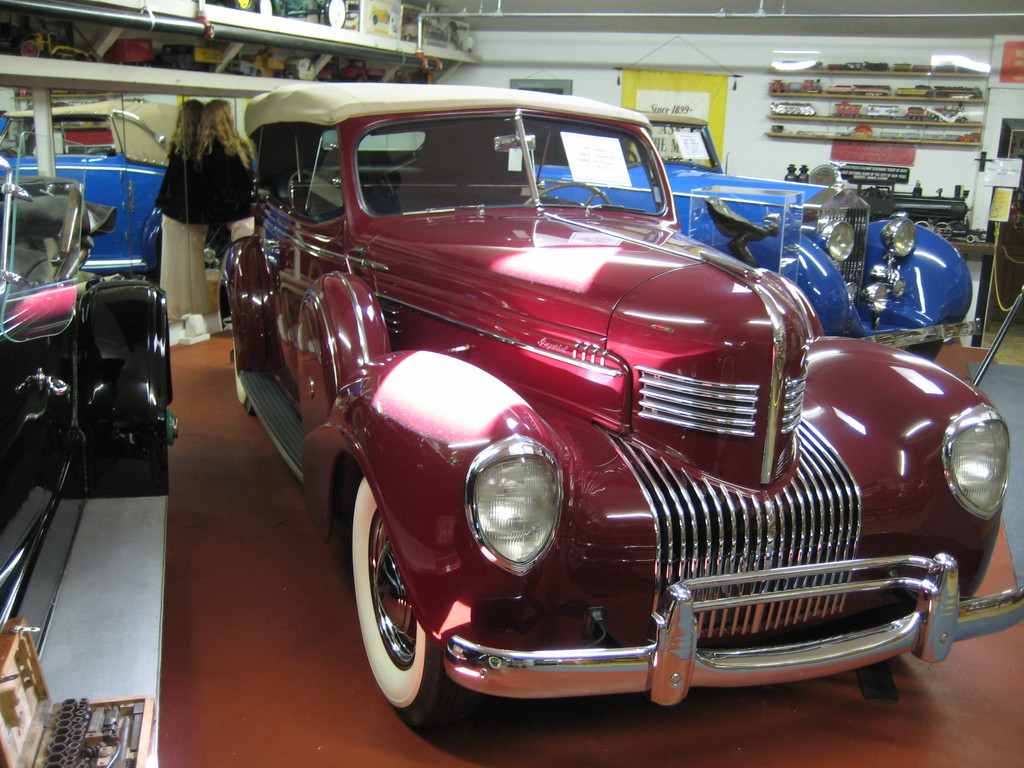cars: (224, 99, 966, 732), (526, 107, 980, 354), (0, 157, 176, 639), (0, 104, 171, 289)
